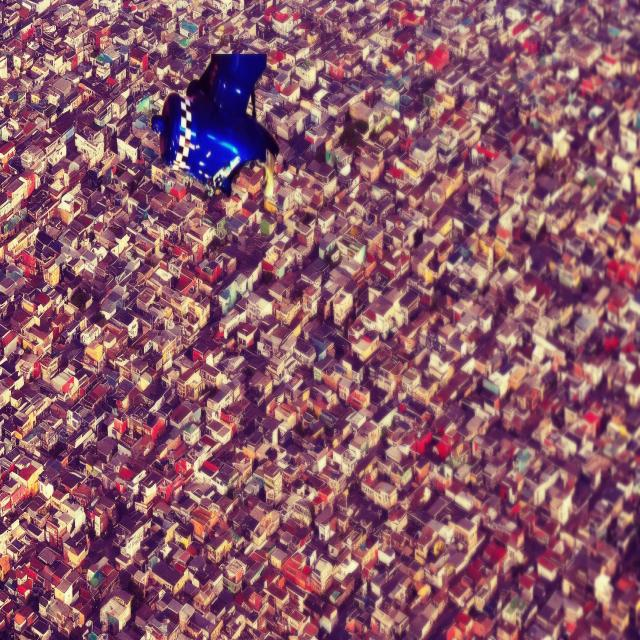airplane: (150, 50, 280, 198)
